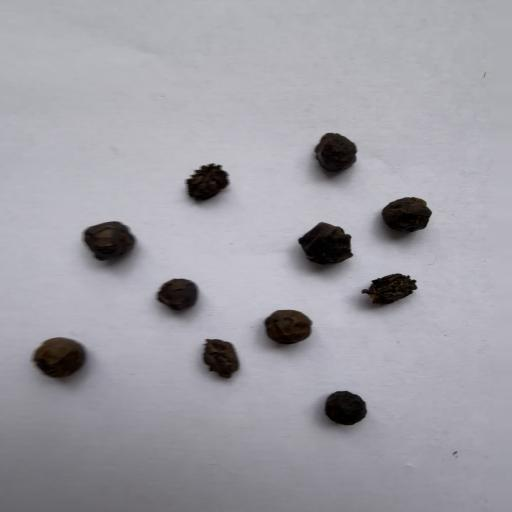Black_pepper: (56, 222, 147, 270), (302, 386, 379, 442), (366, 186, 436, 242), (243, 306, 325, 352), (293, 127, 359, 179), (18, 338, 92, 384), (287, 222, 355, 272), (140, 275, 211, 319)
papaya_seed: (165, 164, 238, 214), (354, 276, 424, 315), (198, 337, 244, 382)
